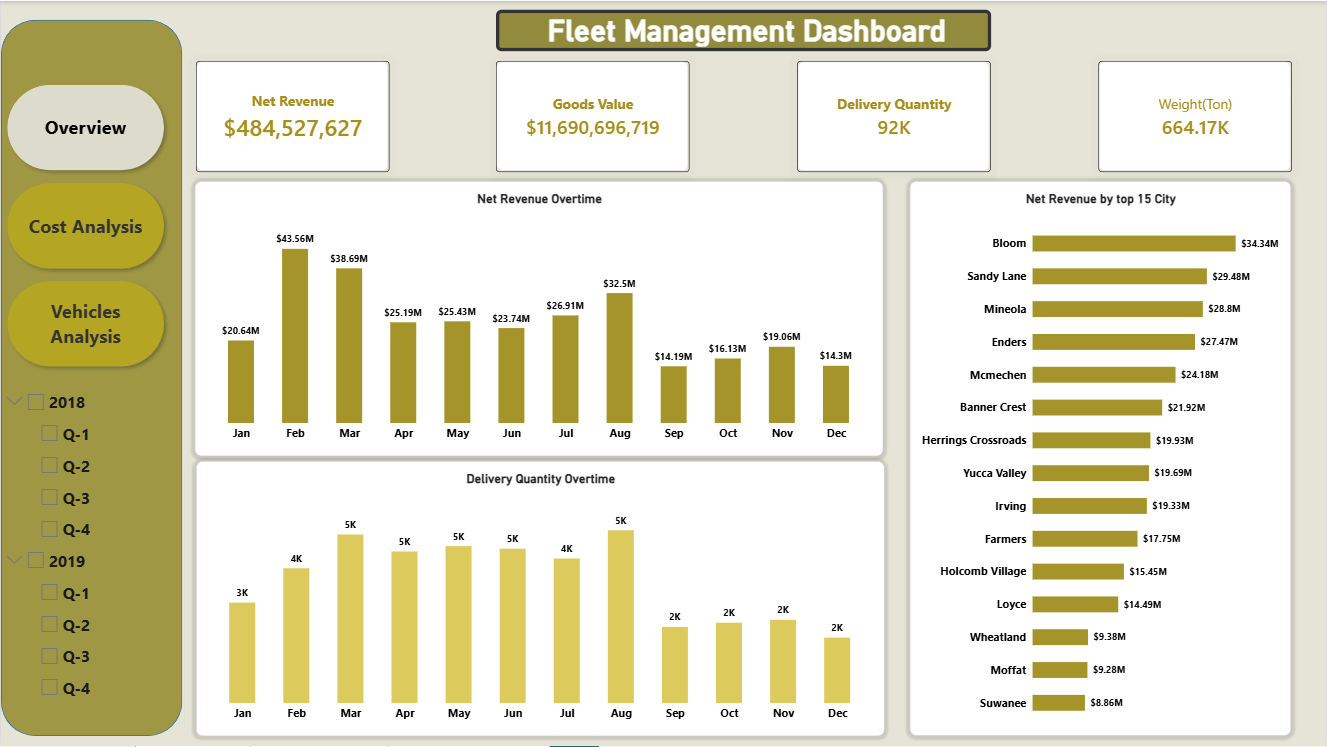

The dashboard page shown, as its layout file describes it:
{"tool":"powerbi","page":{"name":"Overview","canvas":[1920,1080],"ordinal":0},"visuals":[{"type":"cardVisual","fields":{"Data":["Calculations.Net Revenue"]},"box":[282.3,86.9,279.9,160.5],"z":0},{"type":"cardVisual","fields":{"Data":["Calculations.Goods Value"]},"box":[717.2,86.9,279.9,160.5],"z":1000},{"type":"cardVisual","fields":{"Data":["Calculations.Weight(Ton)"]},"box":[1589.1,87.3,279.9,160.5],"z":2000},{"type":"cardVisual","fields":{"Data":["Calculations.Delivery Quantity"]},"box":[1152.2,86.9,279.9,160.5],"z":3000},{"type":"shape","box":[0,27.1,262.4,1036.9],"z":4000},{"type":"clusteredBarChart","title":"Net Revenue by top 15 City","fields":{"Category":["dCliente.City"],"Y":["Calculations.Net Revenue"]},"box":[1315.6,260.6,551.9,803.5],"z":5000},{"type":"columnChart","title":"Net Revenue Overtime","fields":{"Category":["Calendar.Month"],"Y":["Calculations.Net Revenue"]},"box":[280.5,260.6,997.1,398.1],"z":6000},{"type":"columnChart","title":"Delivery Quantity Overtime","fields":{"Category":["Calendar.Month"],"Y":["Calculations.Delivery Quantity"]},"box":[282.3,666,997.1,398.1],"z":7000},{"type":"textbox","title":"Fleet Management Dashboard","box":[716.6,12.7,716.6,59.7],"z":8000},{"type":"slicer","fields":{"Values":["Calendar.Year","Calendar.Quarter"]},"box":[0,558.2,300,487.3],"z":11001},{"type":"pageNavigator","box":[0,112.7,245.5,427.3],"z":11002},{"type":"cardVisual","fields":{"Data":["Var Calculations.YOY% (Revenue)"]},"box":[452.4,86.9,150.2,59.7],"z":11003},{"type":"cardVisual","fields":{"Data":["Var Calculations.YOY% (Goods Value)"]},"box":[856,86.9,206.3,61.5],"z":11004},{"type":"cardVisual","fields":{"Data":["Var Calculations.YOY% (Delivery Quantity)"]},"box":[1277.6,86.9,231.6,59.7],"z":11005},{"type":"cardVisual","fields":{"Data":["Var Calculations.YOY% (Tons)"]},"box":[1749.9,86.9,168.3,59.7],"z":11006}]}

Visuals, with their boxes in screenshot pixels (x1, y1, x2, y2), scaled from the page's 1920x1080 canvas onto the 1327x747 screenshot:
cardVisual - Calculations.Net Revenue: box=[195, 60, 389, 171]
cardVisual - Calculations.Goods Value: box=[496, 60, 689, 171]
cardVisual - Calculations.Weight(Ton): box=[1098, 60, 1292, 171]
cardVisual - Calculations.Delivery Quantity: box=[796, 60, 990, 171]
shape: box=[0, 19, 181, 736]
"Net Revenue by top 15 City" clusteredBarChart: box=[909, 180, 1291, 736]
"Net Revenue Overtime" columnChart: box=[194, 180, 883, 456]
"Delivery Quantity Overtime" columnChart: box=[195, 461, 884, 736]
"Fleet Management Dashboard" textbox: box=[495, 9, 991, 50]
slicer - Calendar.Year x Calendar.Quarter: box=[0, 386, 207, 723]
pageNavigator: box=[0, 78, 170, 374]
cardVisual - Var Calculations.YOY% (Revenue): box=[313, 60, 416, 101]
cardVisual - Var Calculations.YOY% (Goods Value): box=[592, 60, 734, 103]
cardVisual - Var Calculations.YOY% (Delivery Quantity): box=[883, 60, 1043, 101]
cardVisual - Var Calculations.YOY% (Tons): box=[1209, 60, 1326, 101]
